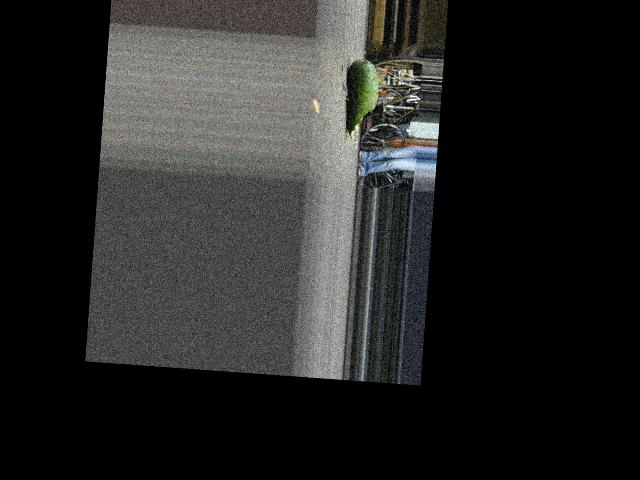cucumber: (343, 58, 380, 141)
